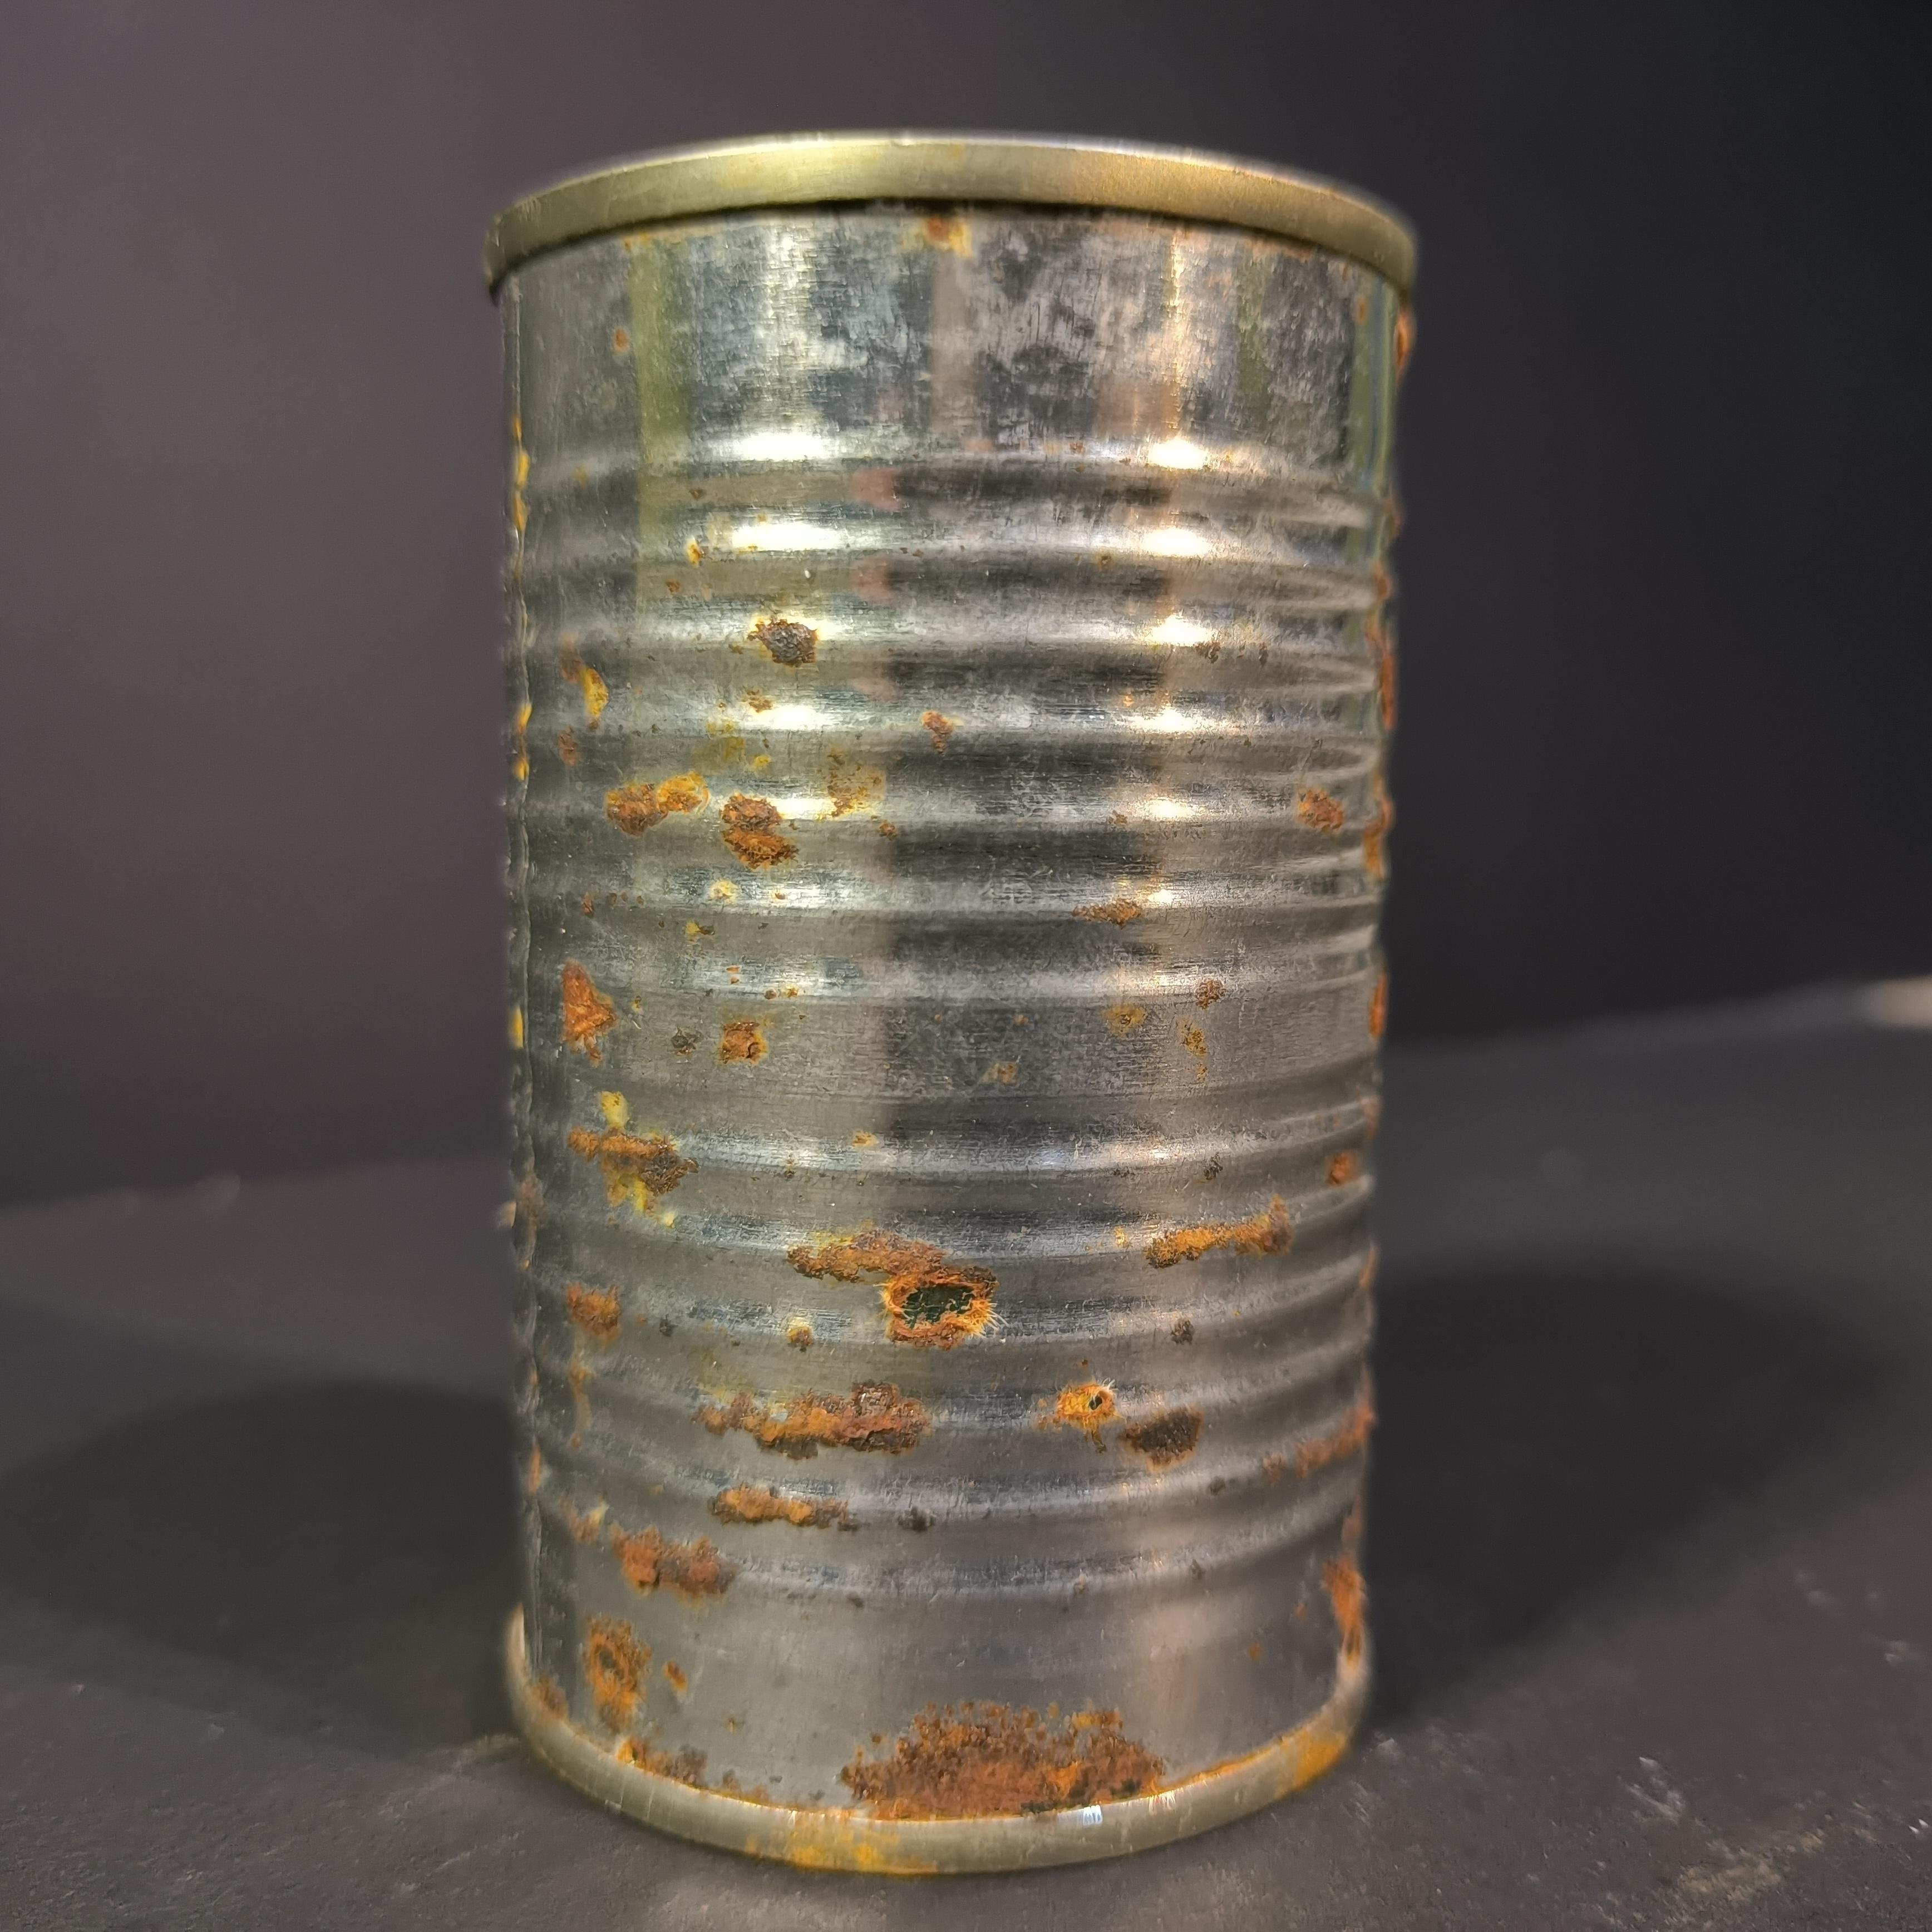Rusted: (448, 103, 1444, 1890)
